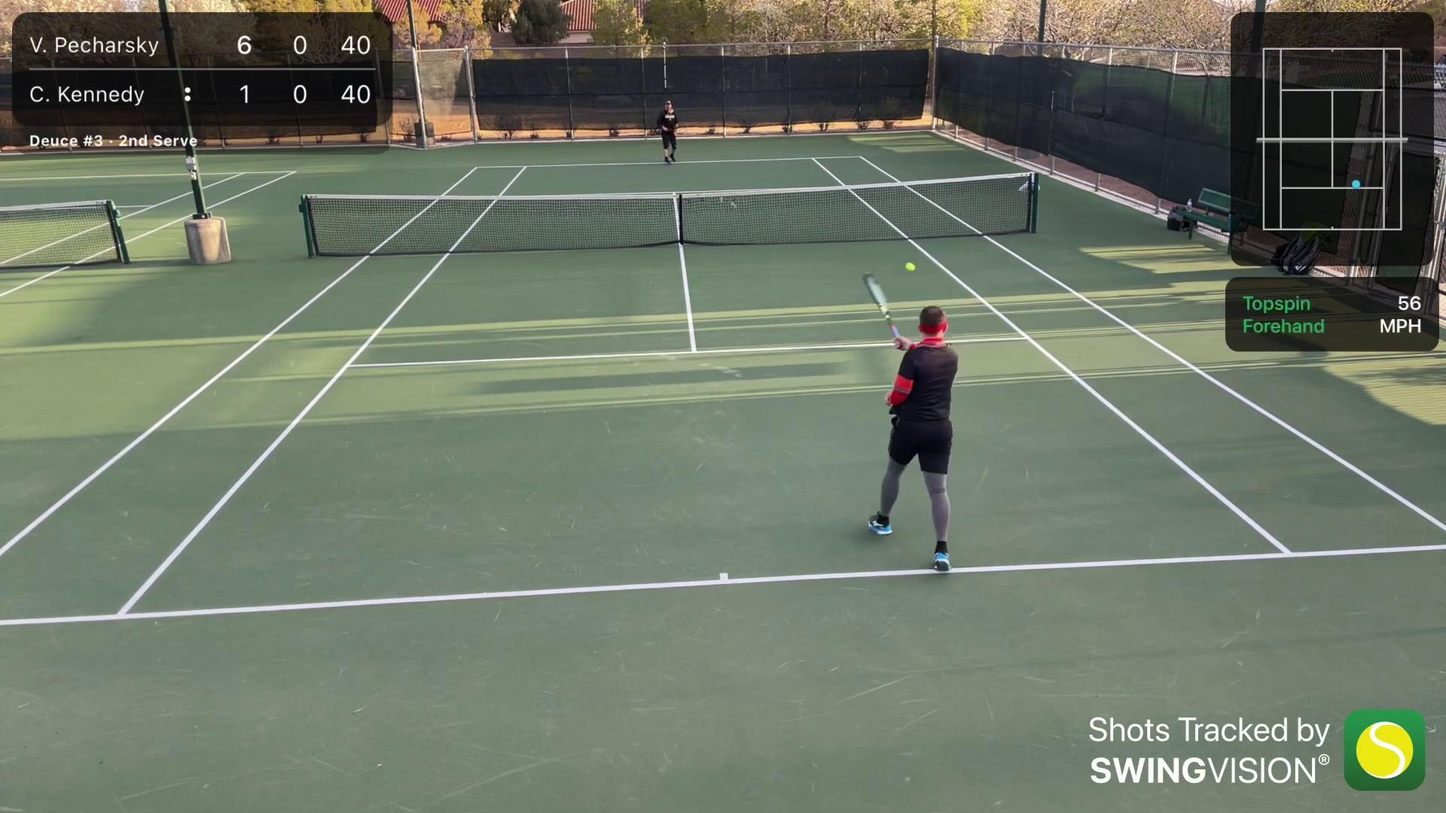ball: (905, 259, 920, 274)
